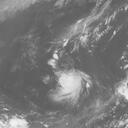cyclone: (51, 68, 92, 104)
